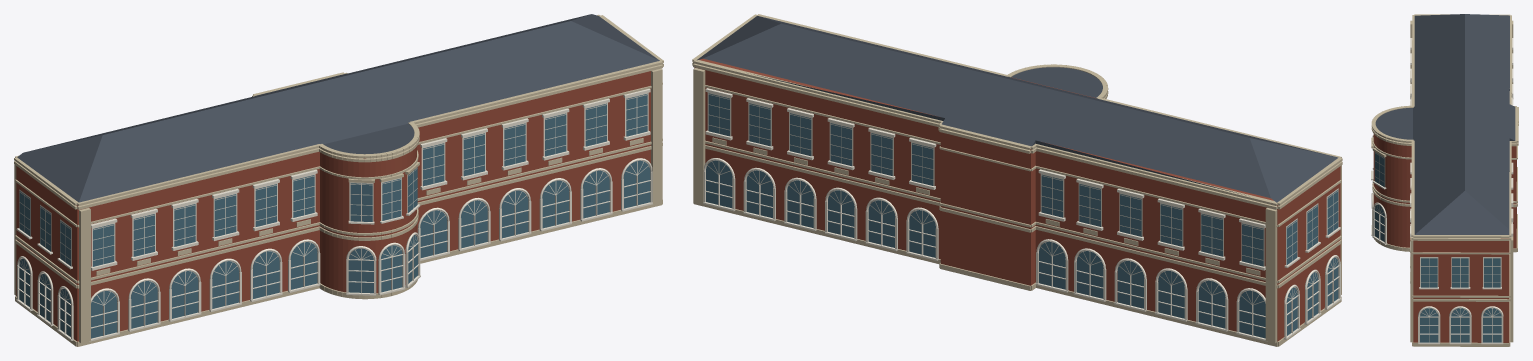
File: groote-museum.glb
The picture shows the model from 3 angles, left to right: view 1: azimuth 30°, elevation 25°; view 2: azimuth 150°, elevation 25°; view 3: azimuth 270°, elevation 25°; orthographic projection. The views are drawn at different scales.
Parts seen in each view (by area): view 1: groote-museum; view 2: groote-museum; view 3: groote-museum.
Boxes of the visible parts, box(x1,y1,x2,y2) form: groote-museum: box(14, 14, 663, 346); groote-museum: box(692, 14, 1342, 346); groote-museum: box(1371, 14, 1518, 346).
Bounding box in the file's own units: 72.79 × 20.4 × 20.36.
